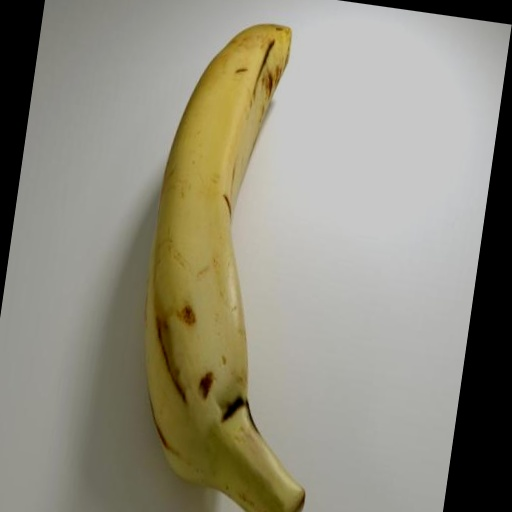fruit: (144, 25, 303, 512)
